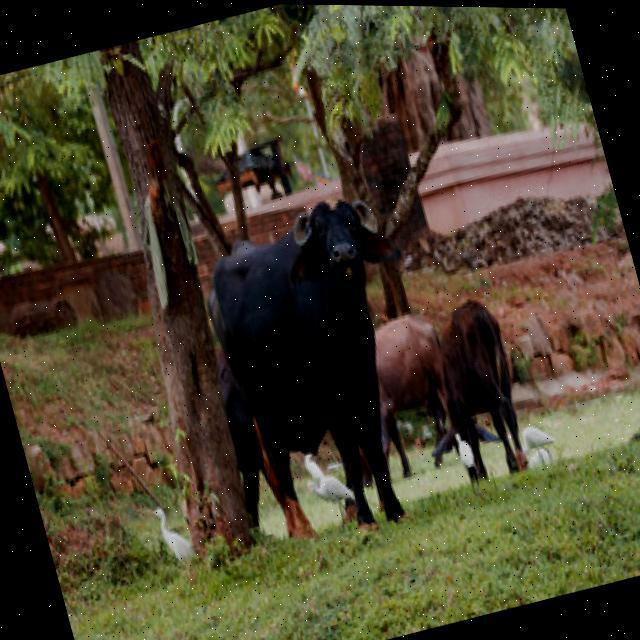Buffalo: (183, 178, 464, 556)
